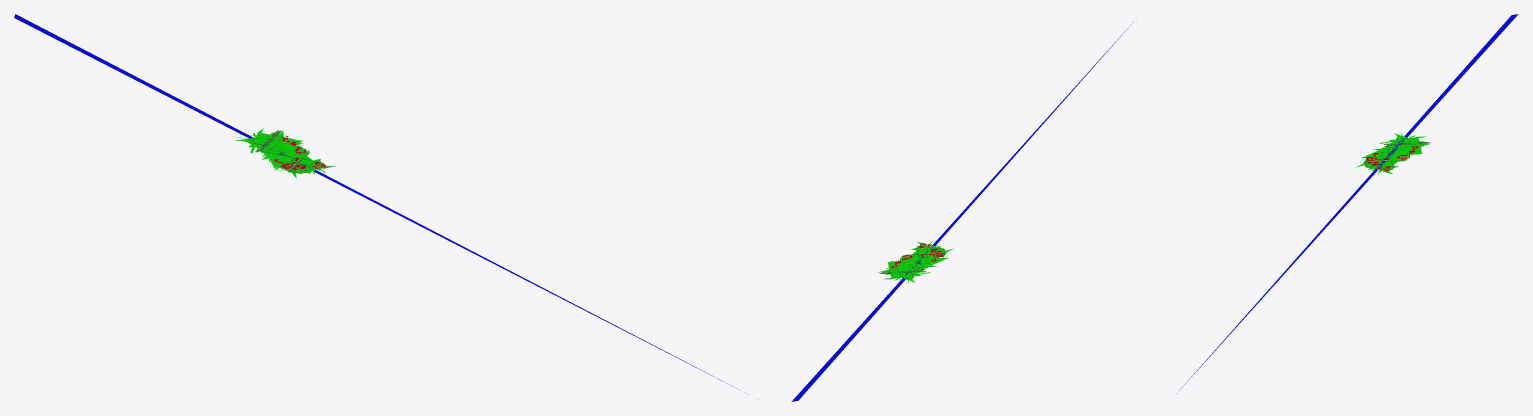
3 renders of one model, left to right at view 1: azimuth 30°, elevation 25°; view 2: azimuth 150°, elevation 25°; view 3: azimuth 330°, elevation 25°, orthographic. The views are drawn at different scales.
Bounding box in the file's own units: 1280 × 15 × 7706.
